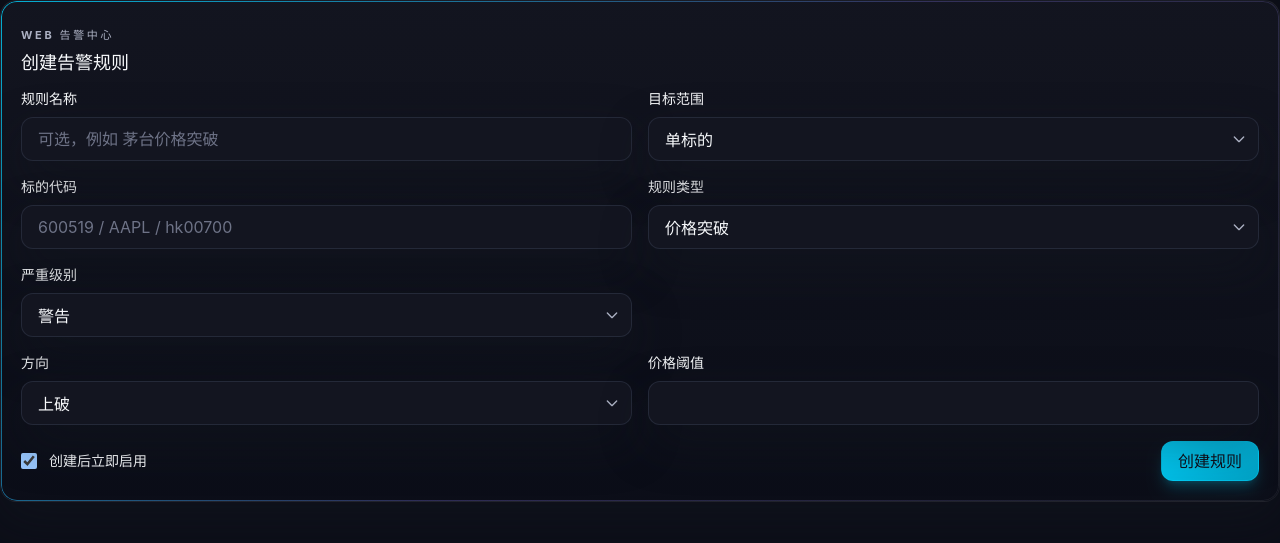
Test: AlertRuleForm › keeps all account option when account loading fails
The image size is (1280, 543).
Select "持仓标的" in the dropdown labelled "目标范围". click: (954, 139)
box: [648,117,1259,161]
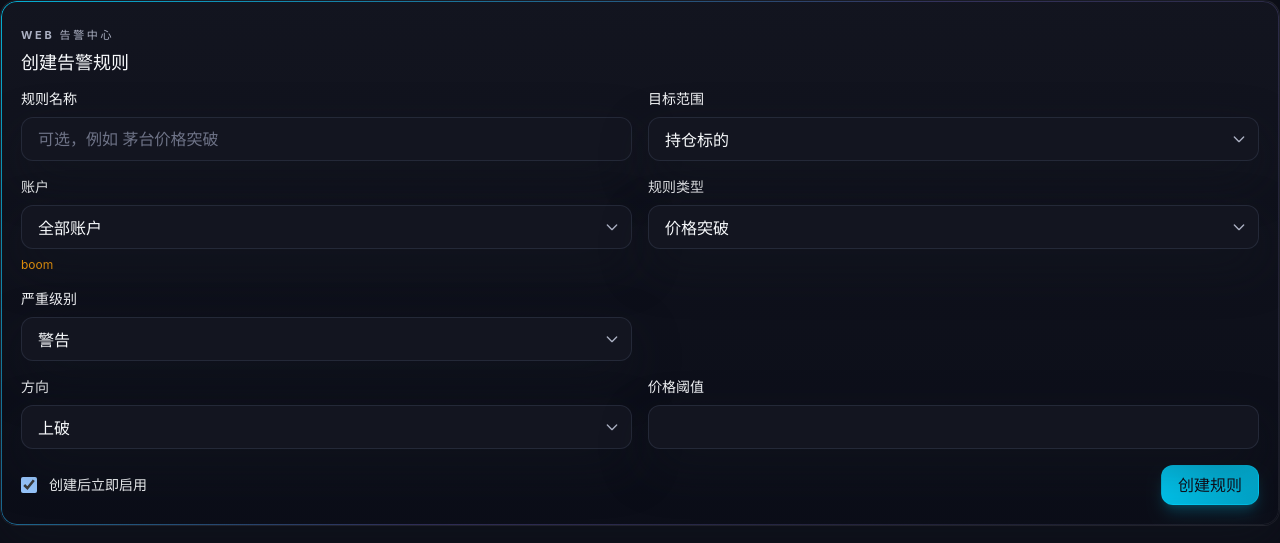
Expected: the message reads "boom", [21,257,53,272]
Expected: the dropdown labelled "账户" shows "全部账户", [21,205,632,249]
